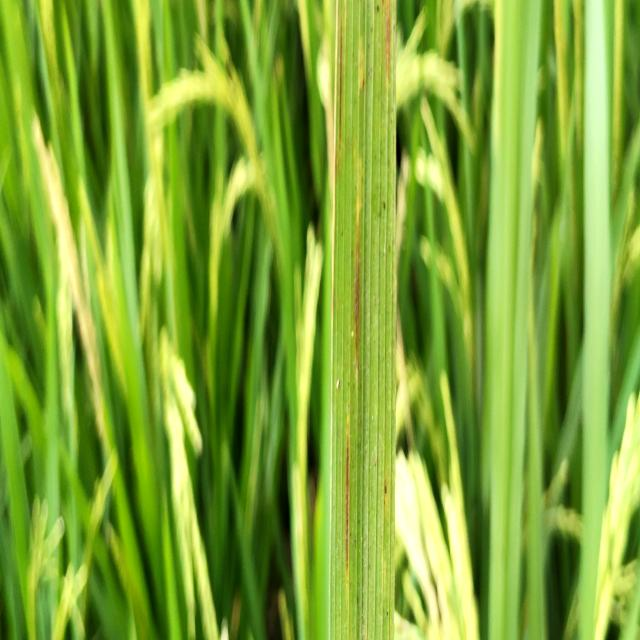NBS: (355, 201, 359, 376), (345, 413, 349, 572), (339, 21, 343, 156), (386, 0, 390, 80), (382, 0, 384, 11), (366, 635, 368, 640)
